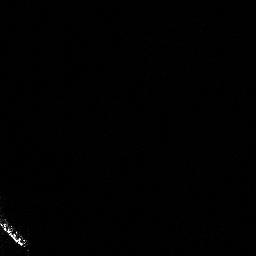ship: (1, 211, 33, 253)
